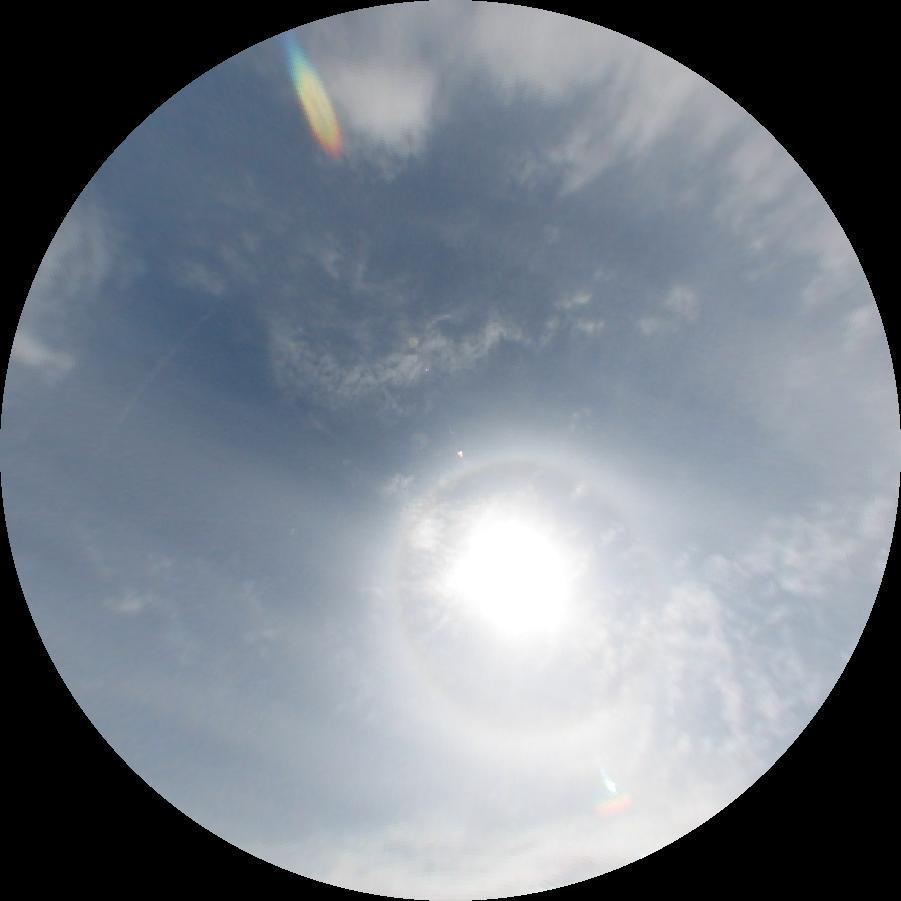contrail young: (94, 302, 220, 451)
sun: (435, 498, 594, 656)
